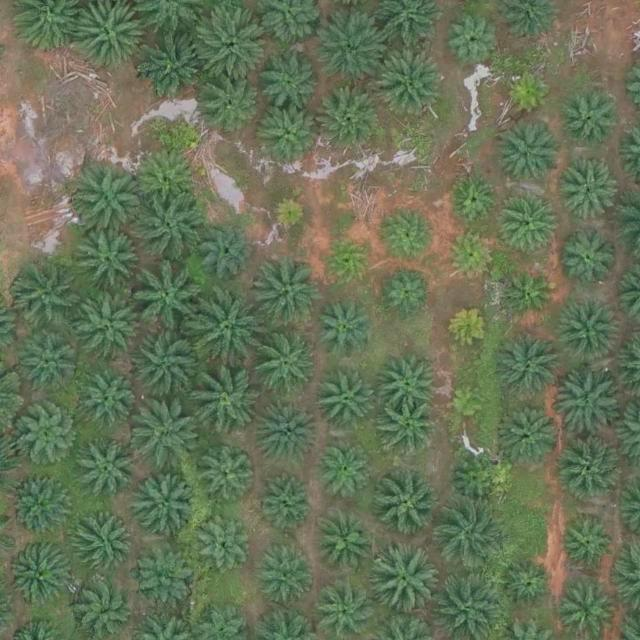Kelapa_Sawit: (493, 328, 563, 399), (370, 466, 440, 537), (129, 402, 199, 473), (373, 48, 443, 119), (311, 84, 381, 155), (554, 369, 624, 439), (436, 498, 506, 568), (366, 546, 436, 616), (188, 364, 258, 434), (130, 329, 200, 399), (316, 14, 386, 84), (196, 5, 266, 75), (139, 30, 209, 100), (251, 255, 321, 325), (190, 295, 260, 365), (132, 264, 202, 334), (135, 190, 205, 260), (72, 165, 142, 235), (74, 284, 144, 354), (8, 261, 78, 331), (555, 299, 617, 362), (563, 438, 625, 501), (501, 401, 563, 464), (376, 351, 438, 414), (310, 297, 372, 360), (314, 369, 376, 432), (314, 509, 376, 572), (255, 332, 317, 395), (254, 540, 316, 603), (196, 440, 258, 503), (134, 474, 196, 537), (74, 438, 136, 501), (69, 513, 131, 576), (72, 576, 134, 639), (10, 473, 72, 536), (9, 545, 71, 608), (559, 85, 621, 148), (559, 154, 621, 217), (554, 231, 616, 294), (495, 124, 557, 187), (494, 191, 556, 254), (259, 49, 321, 112), (194, 74, 256, 137), (135, 147, 197, 210), (77, 231, 139, 294), (253, 404, 315, 466), (131, 544, 193, 606), (12, 407, 74, 469), (259, 103, 321, 165), (449, 454, 504, 509), (382, 401, 437, 456), (316, 446, 371, 501), (257, 473, 312, 528), (501, 64, 556, 119), (381, 206, 436, 261), (381, 264, 436, 319), (443, 226, 498, 281), (448, 171, 503, 226), (444, 11, 499, 66), (202, 222, 257, 277), (560, 518, 614, 573), (500, 559, 554, 614), (195, 516, 249, 571), (82, 373, 136, 428), (20, 338, 74, 393), (319, 233, 373, 288), (500, 264, 554, 319), (446, 303, 492, 350), (268, 196, 307, 235), (449, 383, 487, 422)
